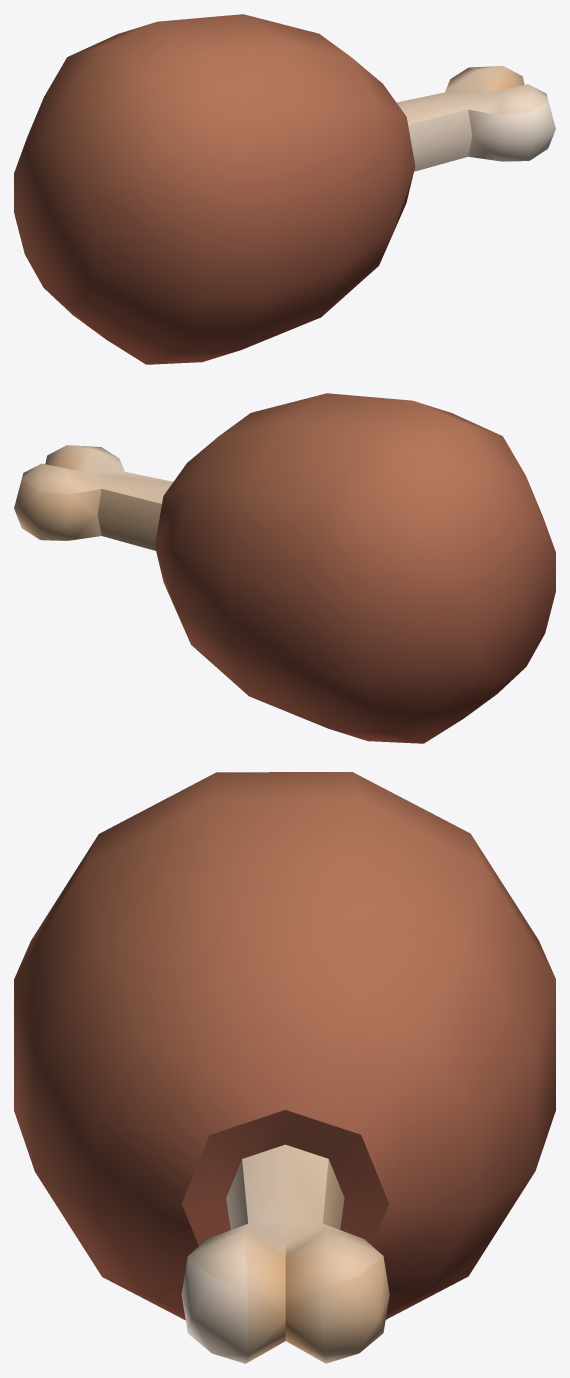
Rendered from kay-food_ingredient_ham_cooked.glb.
3 renders of one model, top to bottom at view 1: azimuth 30°, elevation 25°; view 2: azimuth 150°, elevation 25°; view 3: azimuth 270°, elevation 25°, orthographic. The views are drawn at different scales.
Visible parts, largest first — view 1: food_ingredient_ham_cooked; view 2: food_ingredient_ham_cooked; view 3: food_ingredient_ham_cooked.
Boxes of the visible parts, x1,y1,x2,y2 form: food_ingredient_ham_cooked: (14, 14, 555, 364); food_ingredient_ham_cooked: (14, 393, 555, 743); food_ingredient_ham_cooked: (14, 772, 555, 1363).
Bounding box in the file's own units: 0.22 × 0.1313 × 0.1313.
Materials: 1 (1 with a texture image).
